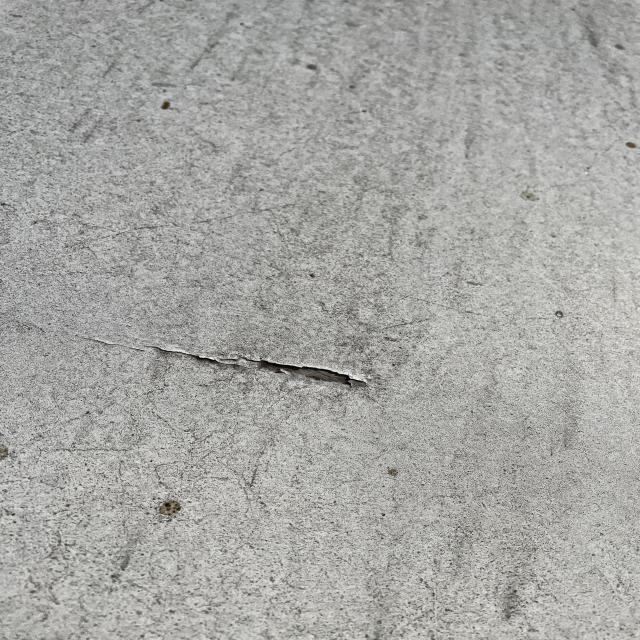crack: (144, 333, 381, 396)
